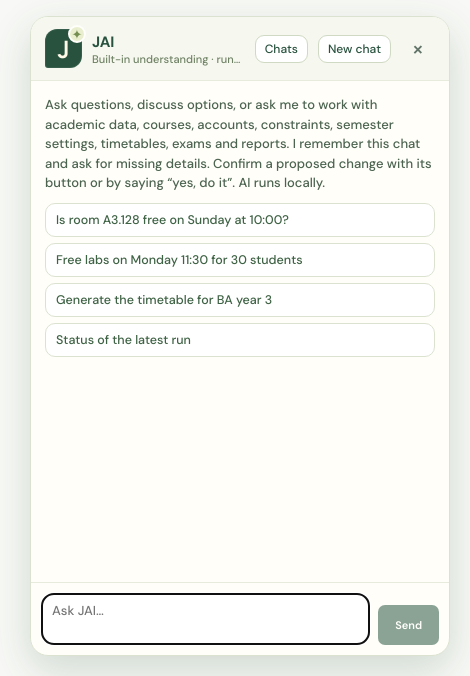
Test case: publishing runs only after confirming, through the publish endpoint
The width and height of the screenshot is (470, 676).
Type "publish it" into the text box named "Message to JAI" at (206, 619), box [41,593,370,645]
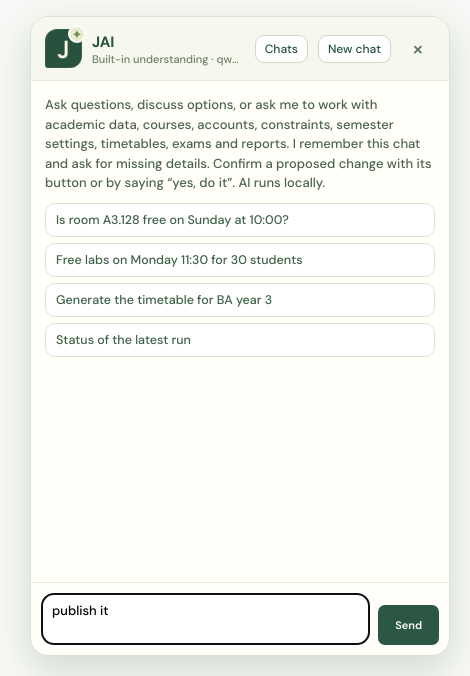
Click the button "Send" at (409, 625), box [378,605,439,645]
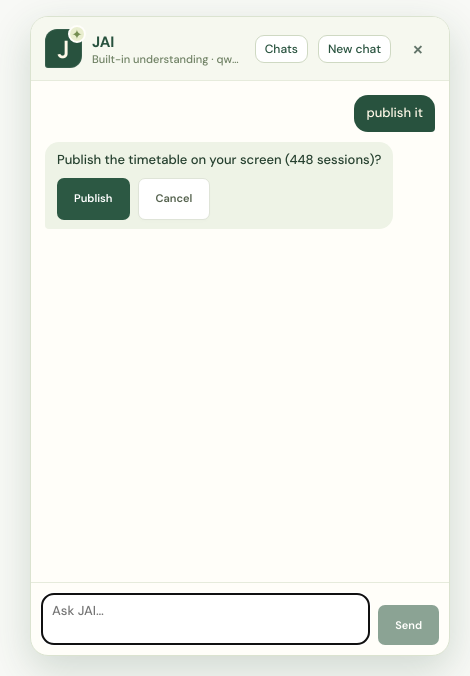
Click the button "Publish" at (93, 199), box [57,178,130,220]
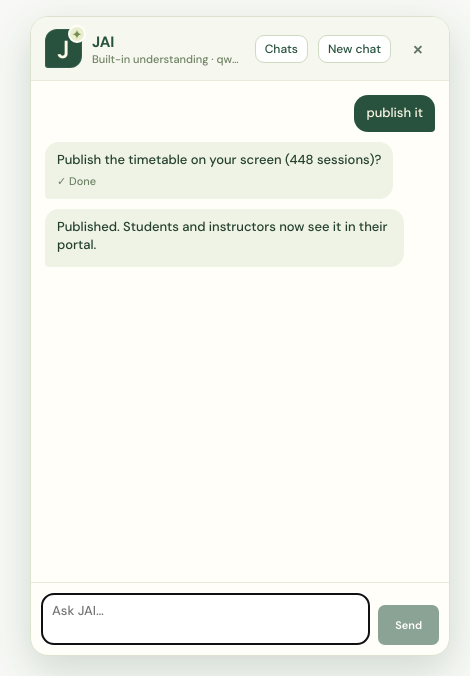
Now the text "Published. Students and instructors now see it" is shown, box [57,218,391,253]
